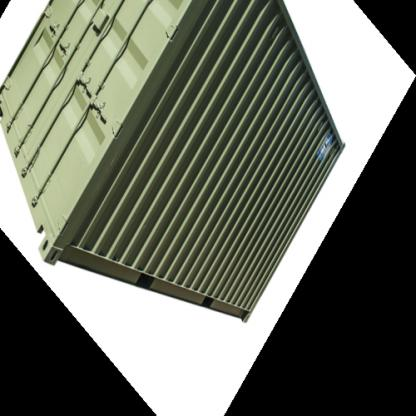Damage: (102, 142, 118, 187)
